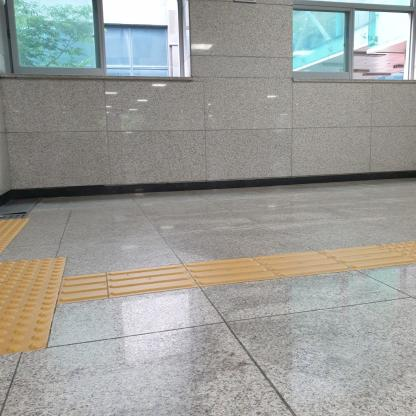go: (106, 263, 200, 297), (183, 257, 282, 287), (251, 251, 357, 278), (56, 272, 109, 305)
stop: (0, 304, 56, 355), (0, 276, 63, 310)
